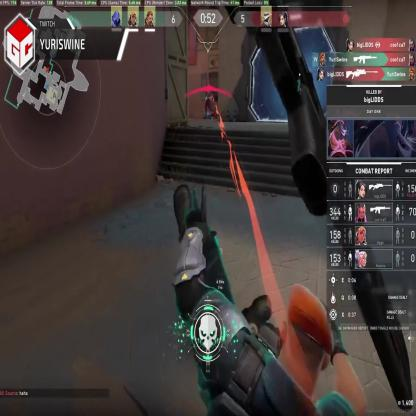enemy: (205, 82, 212, 121)
enemy_head: (206, 83, 211, 92)
